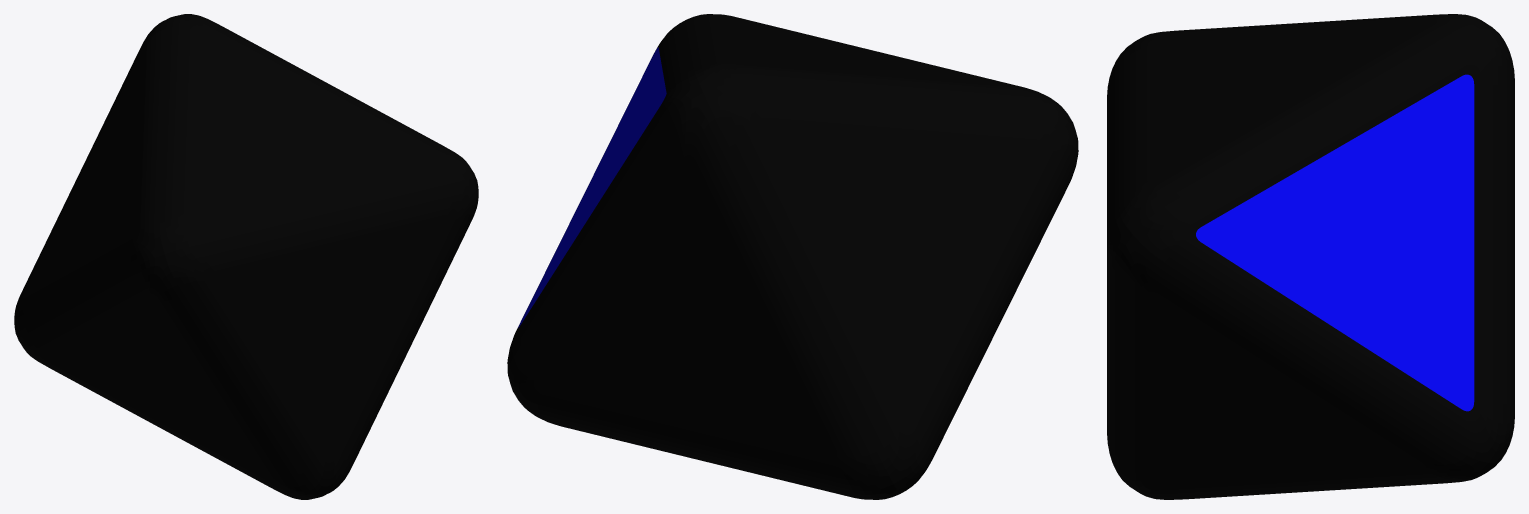
3 views of the same model, side by side, from view 1: azimuth 30°, elevation 25°; view 2: azimuth 150°, elevation 25°; view 3: azimuth 270°, elevation 25° (orthographic). The views are drawn at different scales.
Visible parts, largest first — view 1: o_by; view 2: o_by; view 3: o_by.
Boxes of the visible parts, left/top/right/bottom form: o_by: left=14, top=14, right=478, bottom=499; o_by: left=507, top=14, right=1078, bottom=499; o_by: left=1107, top=14, right=1514, bottom=499.
Bounding box in the file's own units: 154 × 171 × 133.
